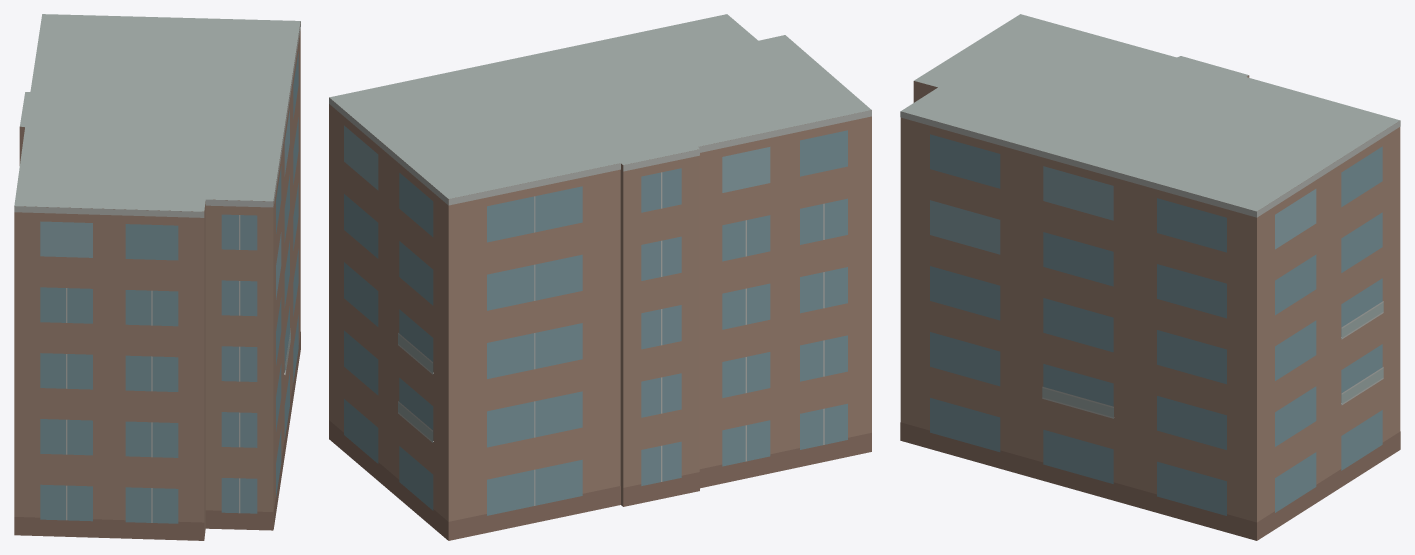
The model's file is survey-upis-32536688.glb.
The picture shows the model from 3 angles, left to right: view 1: azimuth 30°, elevation 25°; view 2: azimuth 150°, elevation 25°; view 3: azimuth 270°, elevation 25°; orthographic projection. The views are drawn at different scales.
Visible parts, largest first — view 1: survey-upis-32536688.tmp; view 2: survey-upis-32536688.tmp; view 3: survey-upis-32536688.tmp.
Part boxes in pixels (<box>): survey-upis-32536688.tmp: <box>14,14,300,540</box>; survey-upis-32536688.tmp: <box>329,14,871,540</box>; survey-upis-32536688.tmp: <box>900,14,1400,540</box>.
Size of the model in its own units: 16.79 by 13.05 by 17.96.
